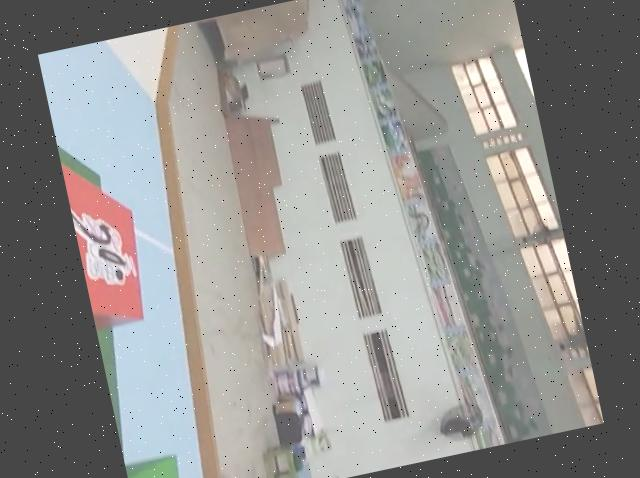R1: (59, 145, 156, 333)
